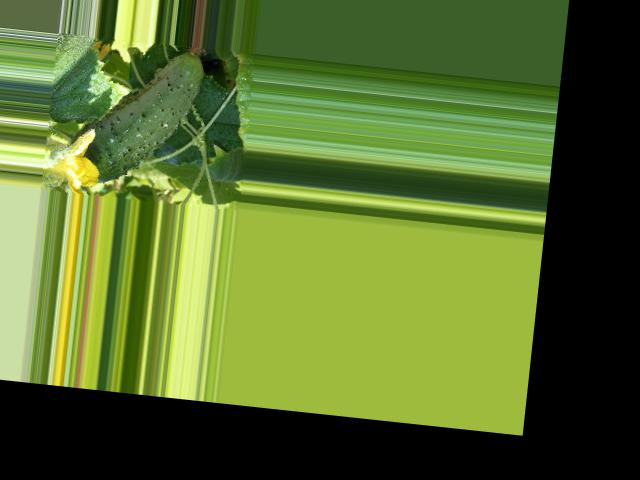cucumber: (67, 34, 207, 192)
